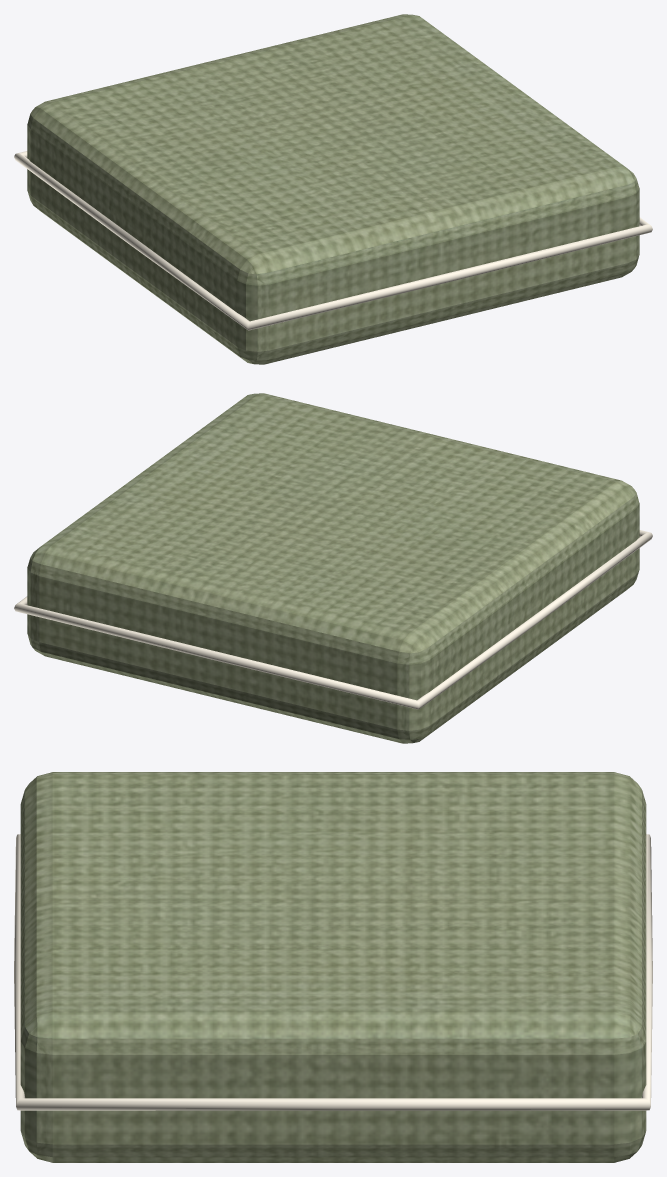
File: cushion_square.glb
3 renders of one model, top to bottom at view 1: azimuth 30°, elevation 25°; view 2: azimuth 150°, elevation 25°; view 3: azimuth 270°, elevation 25°, orthographic. The views are drawn at different scales.
Parts seen in each view (by area): view 1: cushion_square; view 2: cushion_square; view 3: cushion_square.
Part boxes in pixels (<box>): cushion_square: <box>14,14,652,364</box>; cushion_square: <box>14,393,652,743</box>; cushion_square: <box>14,772,652,1162</box>.
Bounding box in the file's own units: 0.478 × 0.122 × 0.478.
Materials: 2 (1 with a texture image).
